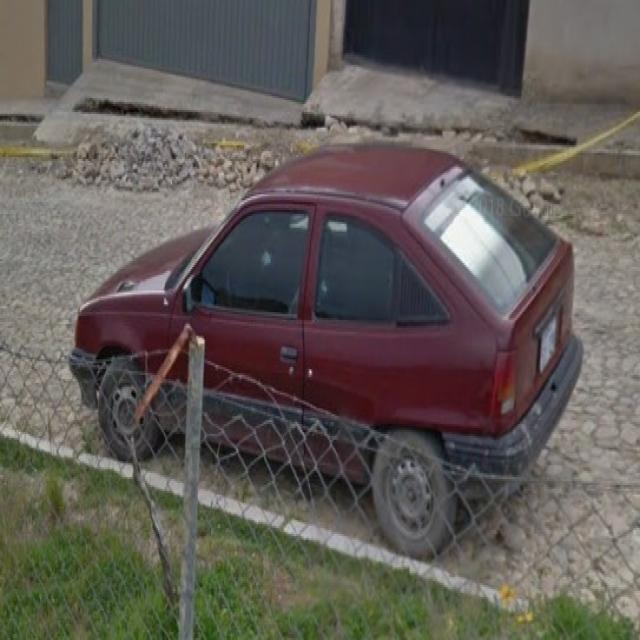Car: (78, 149, 595, 540)
